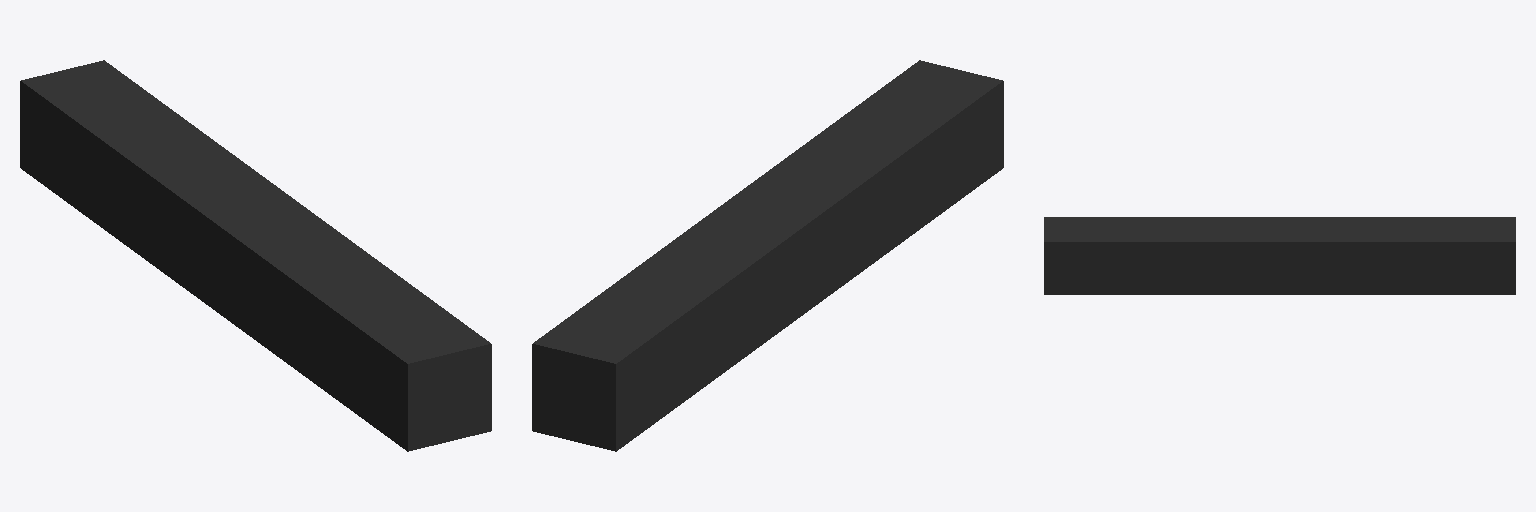
robot.urdf — wall:
<robot name="wall">
  <link name="baseLink">
   
    <inertial>
      <origin rpy="0 0 0" xyz="0 0 0" />
       <mass value="1000.0" />
       <inertia ixx="0" ixy="0" ixz="0" iyy="0" iyz="0" izz="0" />
    </inertial>
    <visual>
      <origin rpy="0 0 0" xyz="0 0 0" />
      <geometry>
			  <box size="1 8 1" />
      </geometry>
       <material name="grey">
        <color rgba="0.24 0.24 0.24 1" />
      </material>
    </visual>
    <collision>
      <origin rpy="0 0 0" xyz="0 0 0" />
      <geometry>
	 	      <box size="1 8 1" />
      </geometry>
    </collision>
  </link>
</robot>

--- Render facts (derived) ---
3 views of the same robot in one strip: view 1: azimuth 30°, elevation 25°; view 2: azimuth 150°, elevation 25°; view 3: azimuth 270°, elevation 25° (orthographic).
Model wall with 1 links and 0 joints (none), rooted at baseLink, posed all joints at 0.
Links seen in each view (by area): view 1: baseLink; view 2: baseLink; view 3: baseLink.
Boxes of the visible links, <box> form: baseLink: <box>20,60,491,451</box>; baseLink: <box>532,60,1003,451</box>; baseLink: <box>1044,217,1515,294</box>.
Bounding box of the posed robot: 1 × 8 × 1 m (x, y, z).
Geometry: primitives only (box / cylinder / sphere), no mesh files.